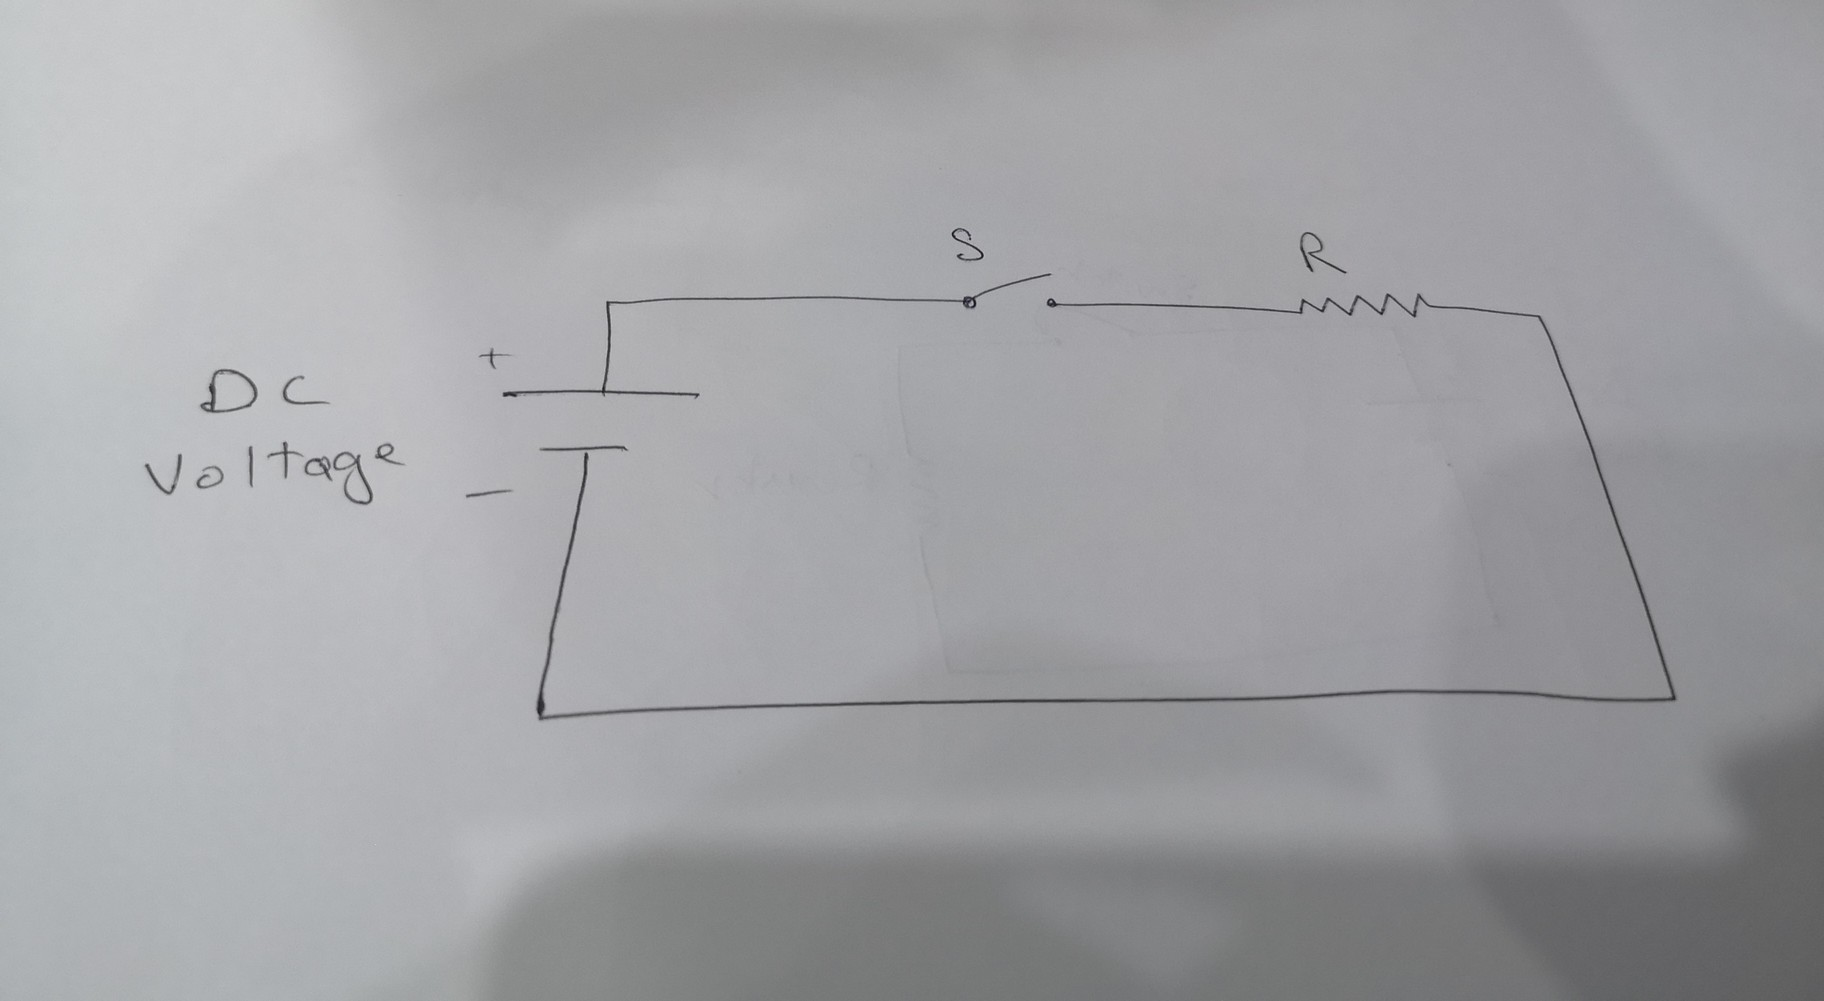junction: (1520, 303, 1557, 337), (527, 700, 555, 727), (1658, 685, 1684, 710), (598, 293, 617, 313)
resistor: (1290, 288, 1439, 324)
switch: (964, 255, 1061, 316)
text: (136, 431, 410, 512), (195, 362, 343, 423), (1297, 228, 1352, 279), (947, 223, 987, 265)
voltage.dc: (495, 382, 711, 464)
